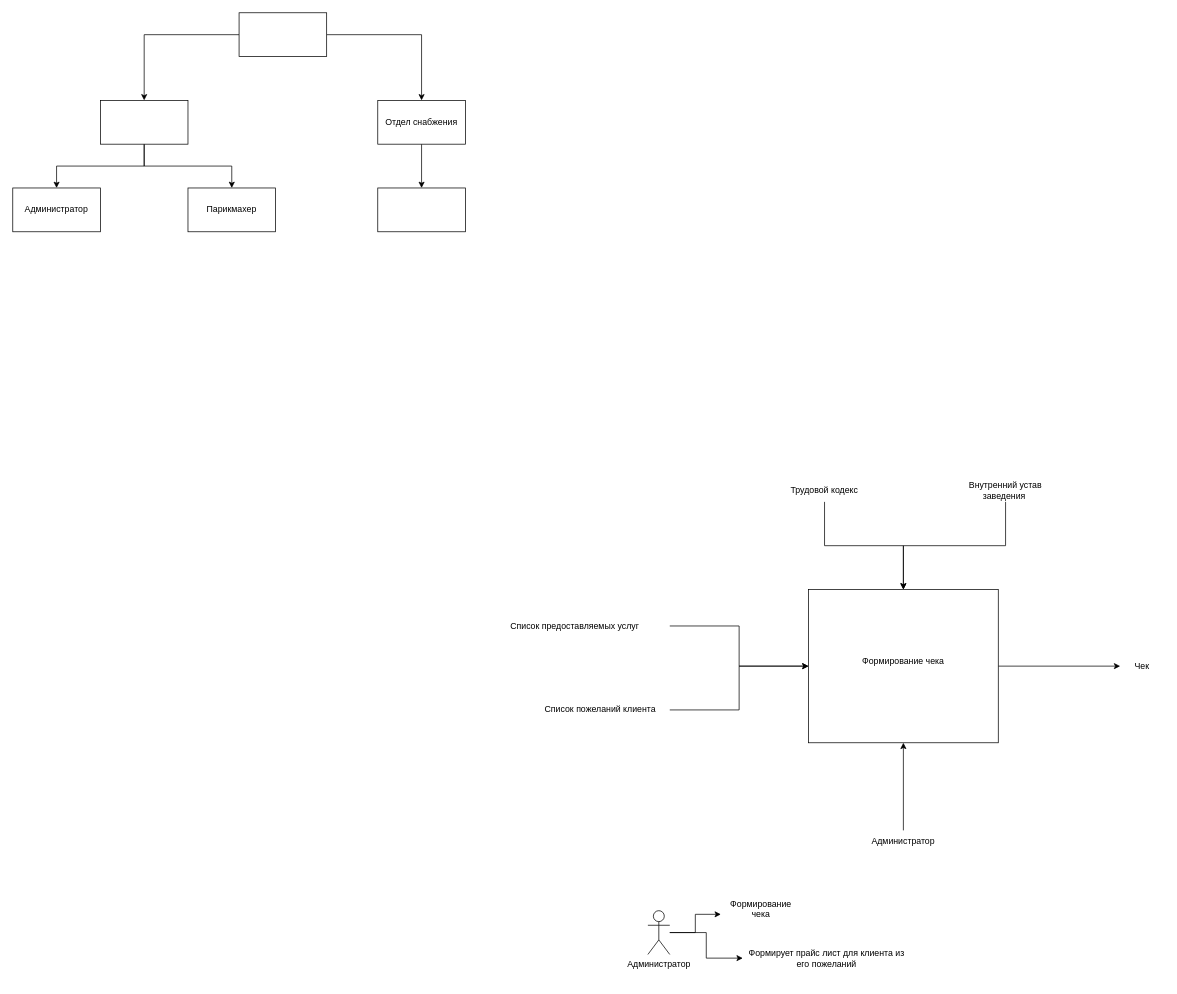
This 1177x994 diagram has some shape labels left out. The centre of each missing label's shape, as x and y in pixels:
Директор парикмахерской: [282,34]
Менеджер по закупкам: [421,209]
Парикмахерская: [144,122]
